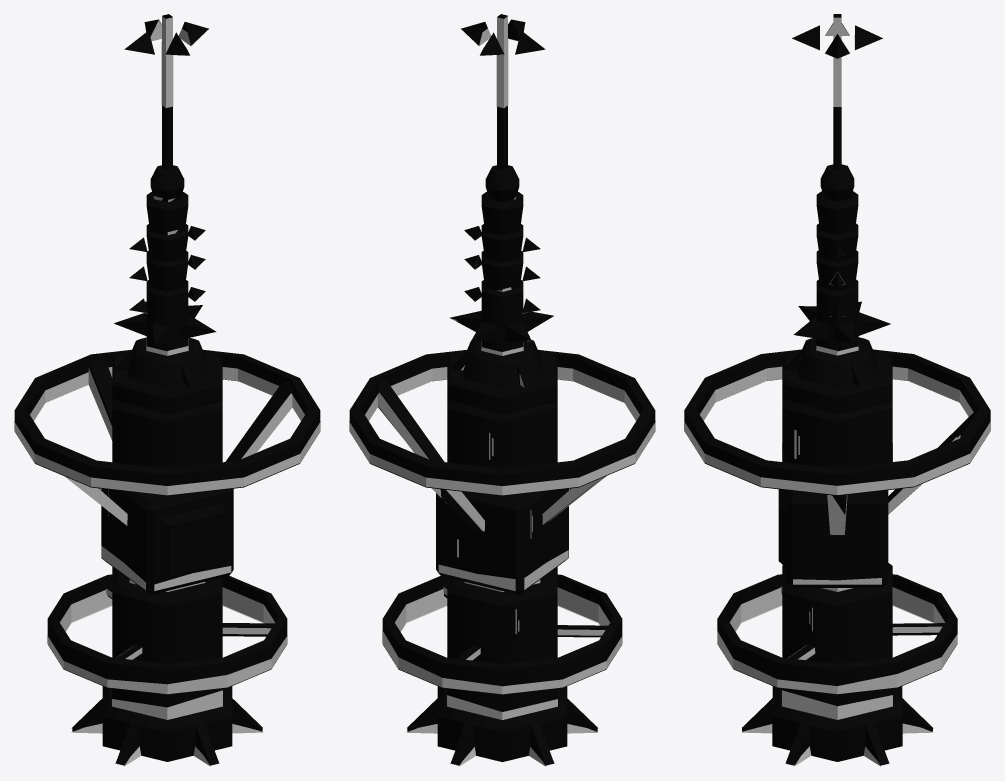
The model's file is Rooms_Paradise_SciFiMachine_Art.fbx.
3 renders of one model, left to right at view 1: azimuth 30°, elevation 25°; view 2: azimuth 150°, elevation 25°; view 3: azimuth 270°, elevation 25°, orthographic.
Visible parts, largest first — view 1: Rooms_Paradise_SciFiMachine_Outliner, Rooms_Paradise_SciFiMachine_Shadows; view 2: Rooms_Paradise_SciFiMachine_Outliner, Rooms_Paradise_SciFiMachine_Shadows; view 3: Rooms_Paradise_SciFiMachine_Outliner, Rooms_Paradise_SciFiMachine_Shadows.
Part boxes in pixels (x1=…): Rooms_Paradise_SciFiMachine_Outliner: x1=14, y1=14, x2=320, y2=765; Rooms_Paradise_SciFiMachine_Shadows: x1=14, y1=16, x2=320, y2=766; Rooms_Paradise_SciFiMachine_Outliner: x1=349, y1=14, x2=655, y2=765; Rooms_Paradise_SciFiMachine_Shadows: x1=349, y1=16, x2=655, y2=766; Rooms_Paradise_SciFiMachine_Outliner: x1=684, y1=14, x2=990, y2=765; Rooms_Paradise_SciFiMachine_Shadows: x1=684, y1=14, x2=990, y2=766.
Size of the model in its own units: 218 by 560 by 218.
